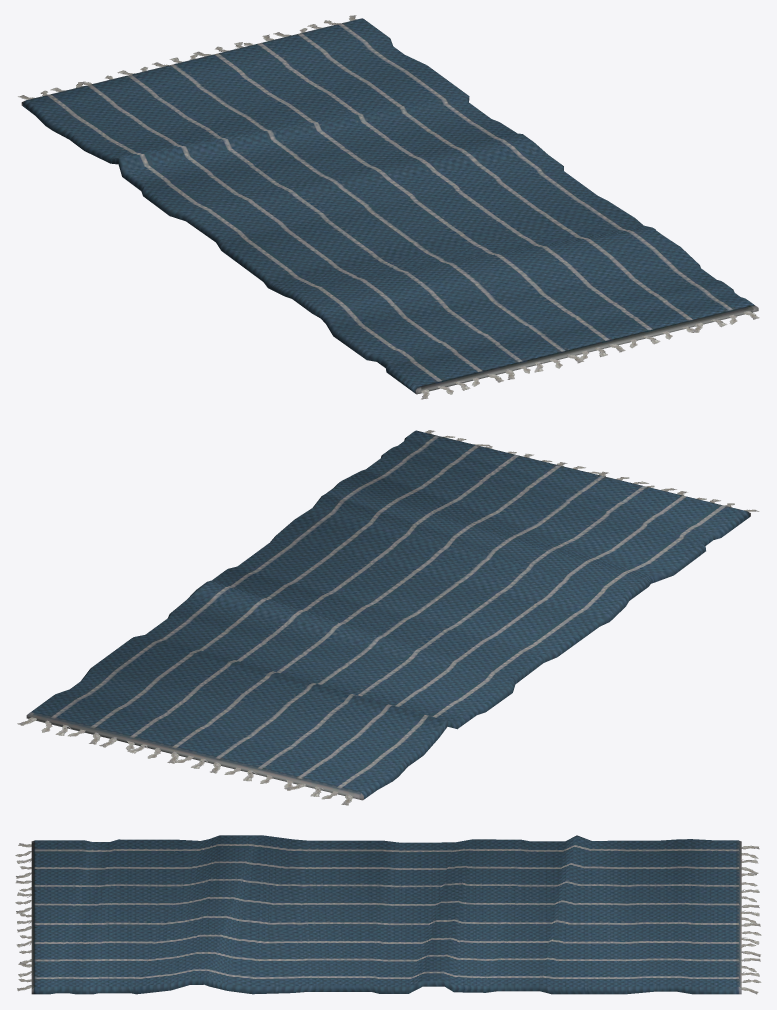
Rendered from carpet_rag_rug_blue.dae.
3 views of the same model, one above another, from view 1: azimuth 30°, elevation 25°; view 2: azimuth 150°, elevation 25°; view 3: azimuth 270°, elevation 25° (orthographic). The views are drawn at different scales.
Visible parts, largest first — view 1: polySurface47; view 2: polySurface47; view 3: polySurface47.
Boxes of the visible parts, bbox=[...] form: polySurface47: bbox=[18, 15, 759, 399]; polySurface47: bbox=[17, 430, 759, 805]; polySurface47: bbox=[15, 835, 761, 994].
Size of the model in its own units: 1.02 by 0.0385 by 2.11.
